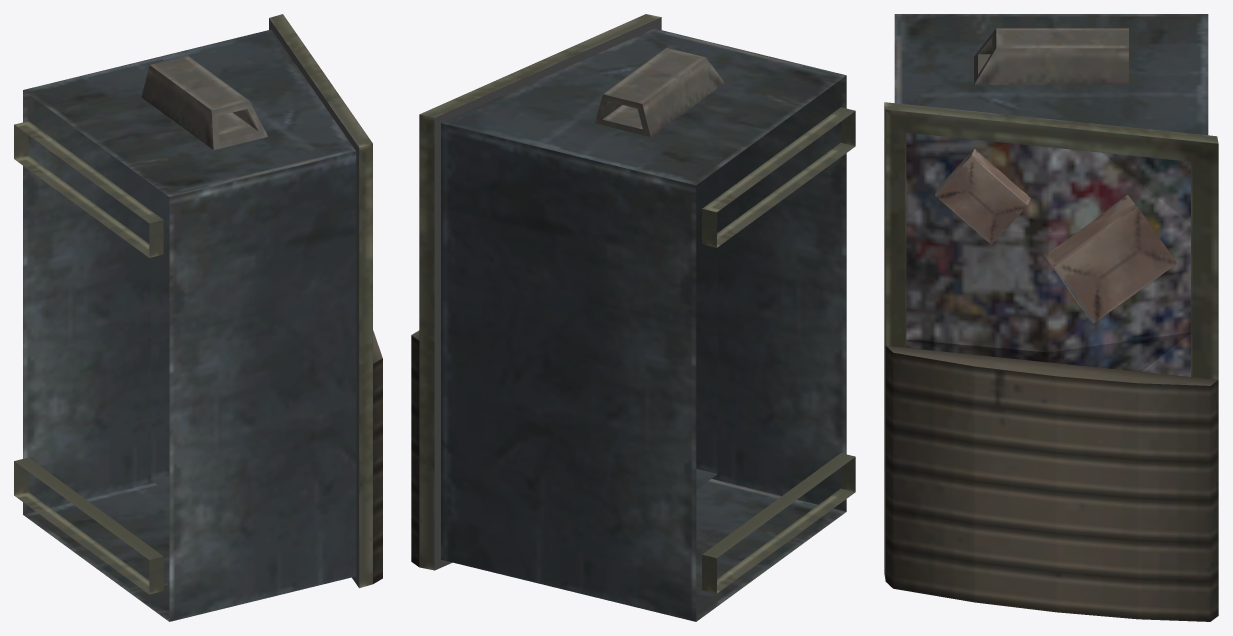
Rendered from trash-container.obj.
3 views of the same model, side by side, from view 1: azimuth 30°, elevation 25°; view 2: azimuth 150°, elevation 25°; view 3: azimuth 270°, elevation 25° (orthographic). The views are drawn at different scales.
Visible parts, largest first — view 1: trash-container; view 2: trash-container; view 3: trash-container.
Boxes of the visible parts, x1=… form: trash-container: x1=14, y1=14, x2=382, y2=621; trash-container: x1=411, y1=14, x2=855, y2=621; trash-container: x1=884, y1=14, x2=1218, y2=621.
Bounding box in the file's own units: 2.01 × 3.2 × 1.86.
